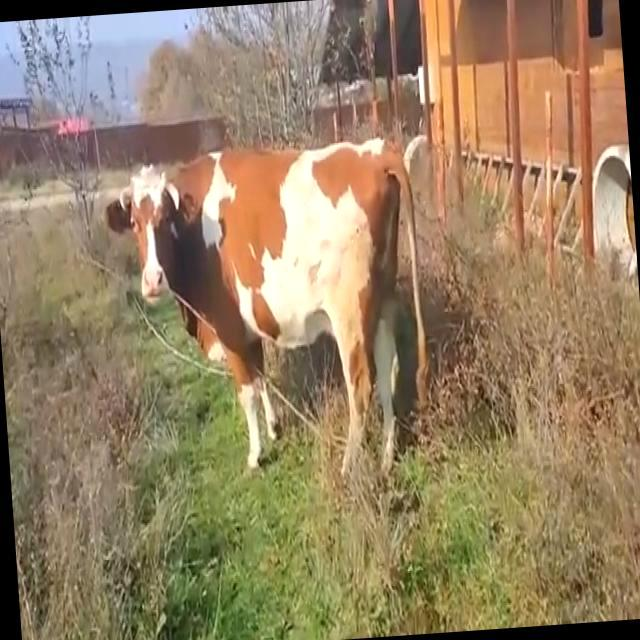COW: (108, 140, 428, 469)
